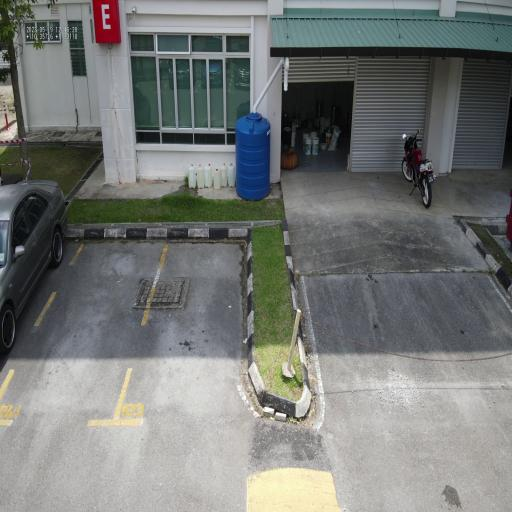Empty: (110, 231, 256, 434)
